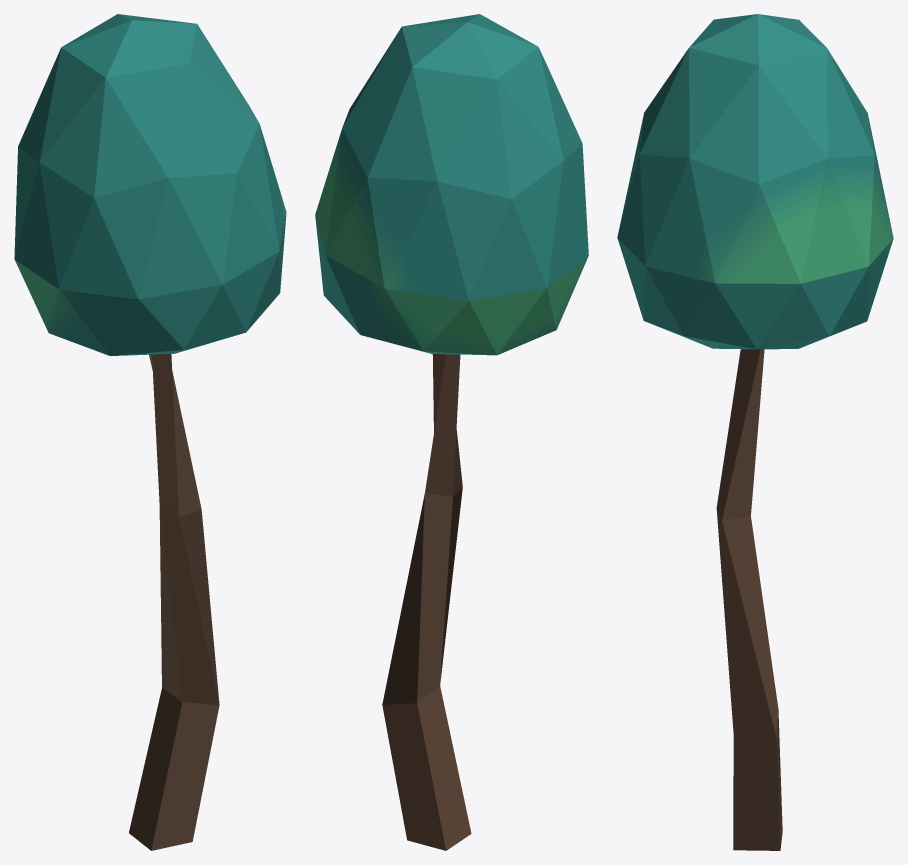
Rendered from Mushroom_7.fbx.
The picture shows the model from 3 angles, left to right: view 1: azimuth 30°, elevation 25°; view 2: azimuth 150°, elevation 25°; view 3: azimuth 270°, elevation 25°; orthographic projection.
Visible parts, largest first — view 1: Mushroom_7; view 2: Mushroom_7; view 3: Mushroom_7.
Part boxes in pixels (x1,y1,x2,y2): Mushroom_7: (14,14,286,850); Mushroom_7: (315,14,588,850); Mushroom_7: (617,14,893,850).
Size of the model in its own units: 31.65 by 108 by 33.18.
